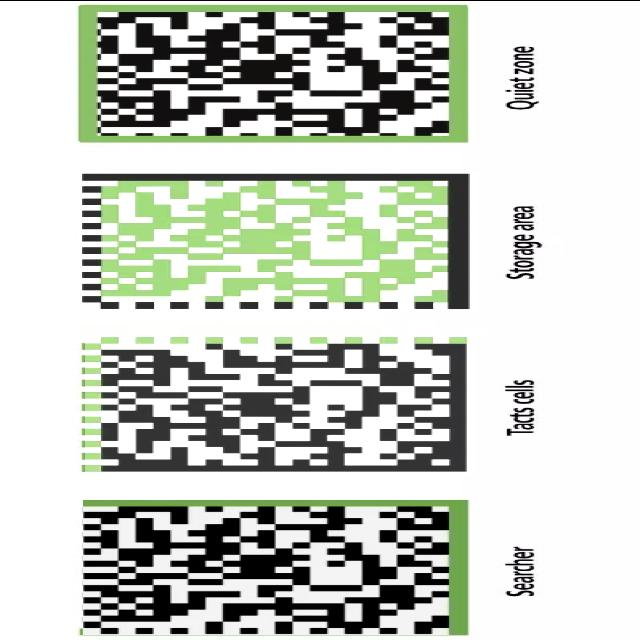DataMatrix: (70, 3, 477, 144), (77, 170, 478, 310), (85, 334, 476, 474), (83, 499, 470, 634)
